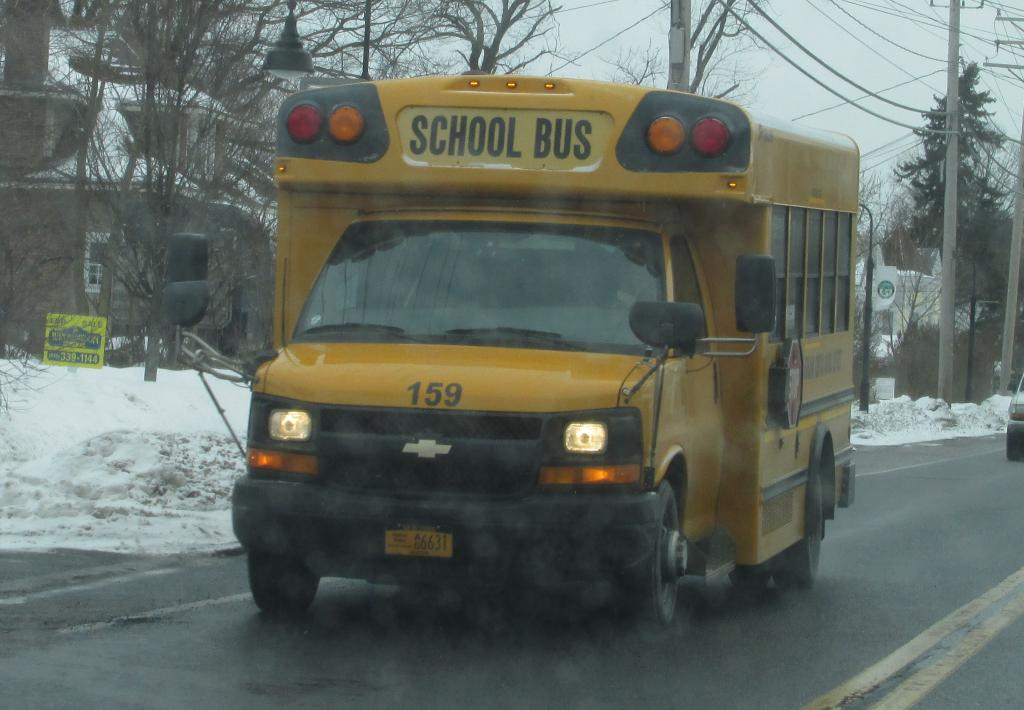Bus: (156, 72, 858, 643)
